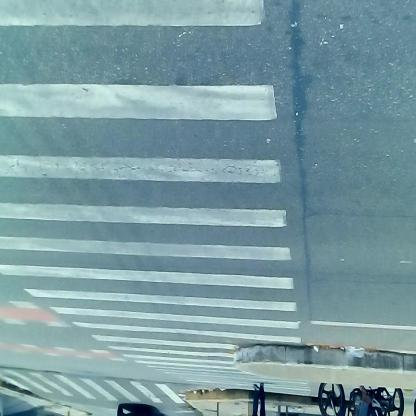crosswalk: (45, 2, 299, 355)
